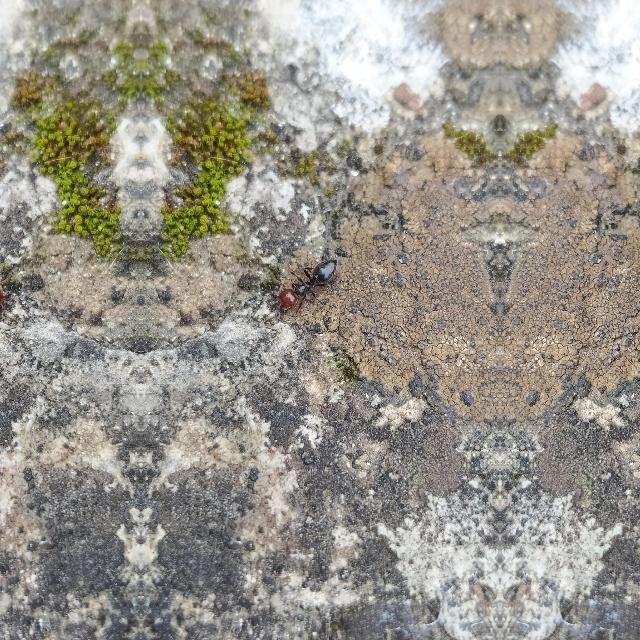Crematogaster: (278, 250, 340, 310)
